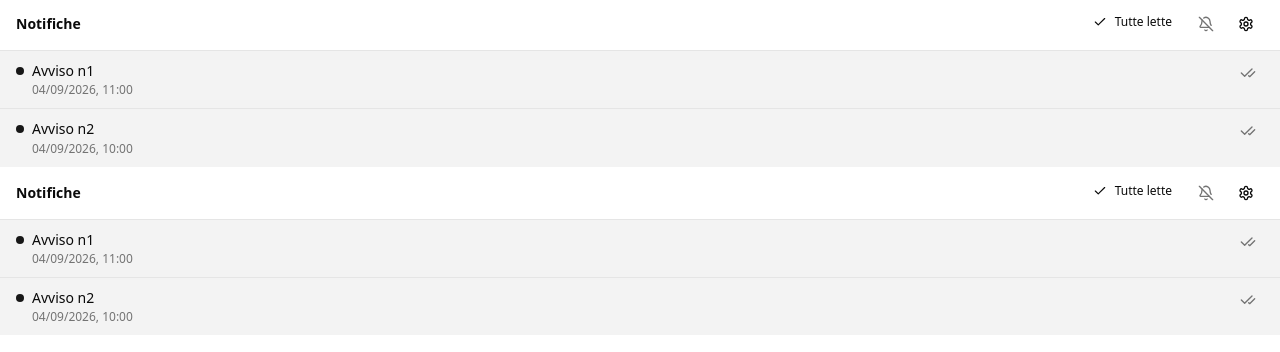
due campanelle aperte sulla stessa cosa › segnata letta in una, si spunta subito anche nell'altra
Click the 1st button named "Segna come letta".
click(1248, 73)  # box x1=1232 y1=57 x2=1264 y2=89
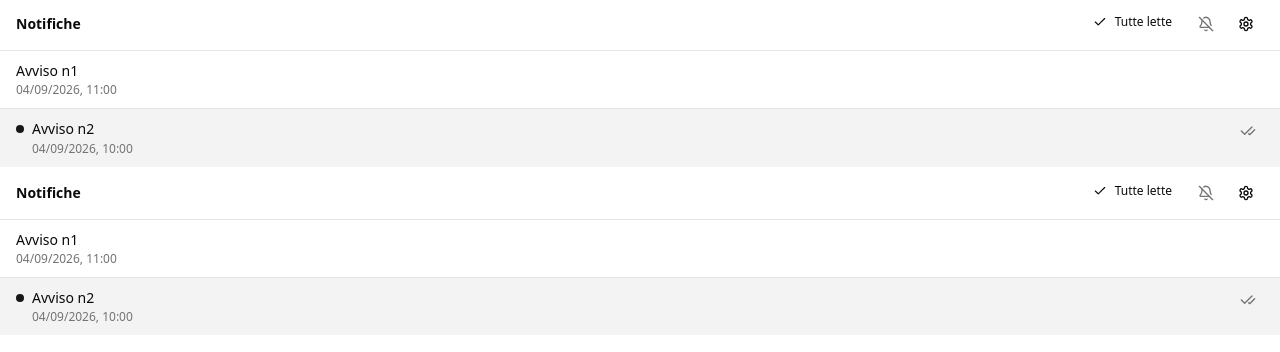
Result: the number of buttons named "Segna come letta" is 2 at x1=1232 y1=115 x2=1264 y2=147; x1=1232 y1=284 x2=1264 y2=316
